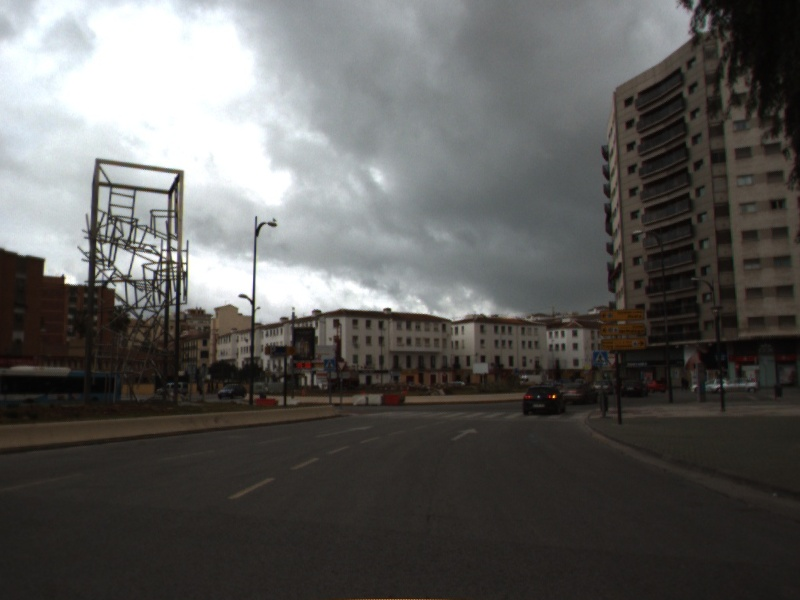STRAIGHT: (312, 424, 375, 440), (448, 426, 480, 442)
